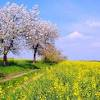field: (1, 60, 99, 100)
flower: (3, 4, 61, 67)
tree: (1, 2, 59, 65)
